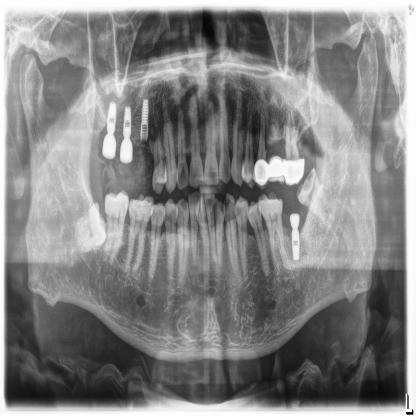Bicon: (104, 97, 119, 138), (288, 231, 304, 264), (140, 95, 150, 142), (122, 100, 134, 136)
